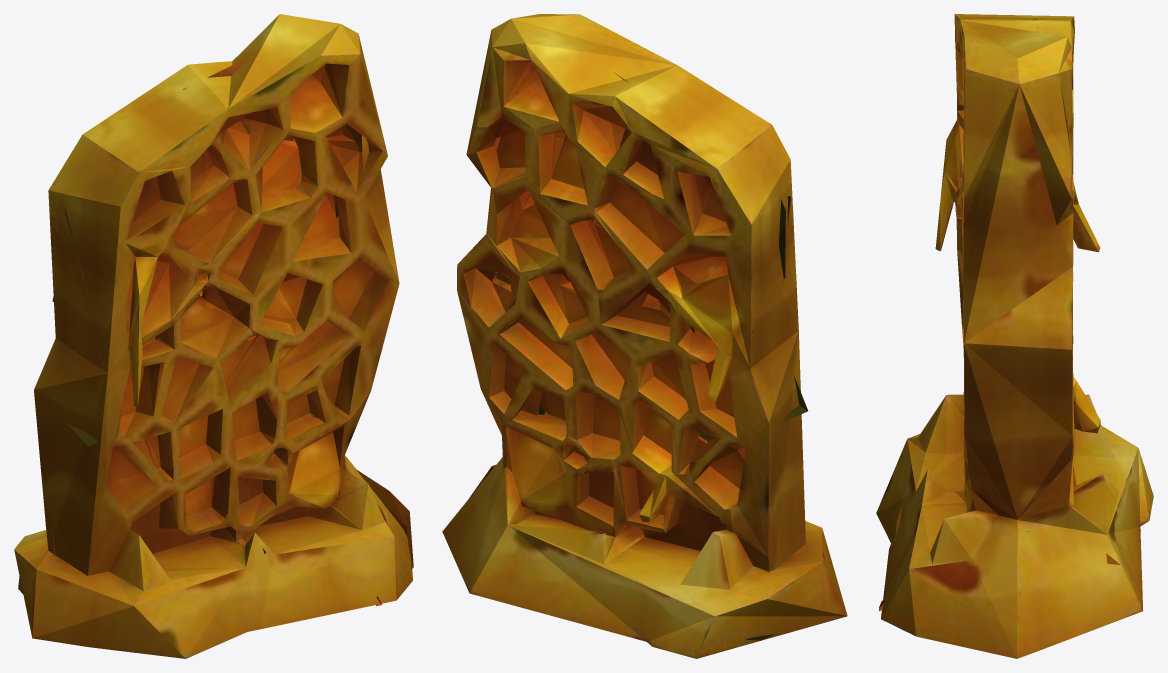
Rendered from d_ruche_rayon.glb.
3 renders of one model, left to right at view 1: azimuth 30°, elevation 25°; view 2: azimuth 150°, elevation 25°; view 3: azimuth 270°, elevation 25°, orthographic. The views are drawn at different scales.
Parts seen in each view (by area): view 1: geometry_0; view 2: geometry_0; view 3: geometry_0.
Boxes of the visible parts, <box> form: geometry_0: <box>14,14,413,658</box>; geometry_0: <box>442,14,847,658</box>; geometry_0: <box>876,14,1153,658</box>.
Bounding box in the file's own units: 0.762 × 1 × 0.4385.
Materials: 1 (1 with a texture image).
